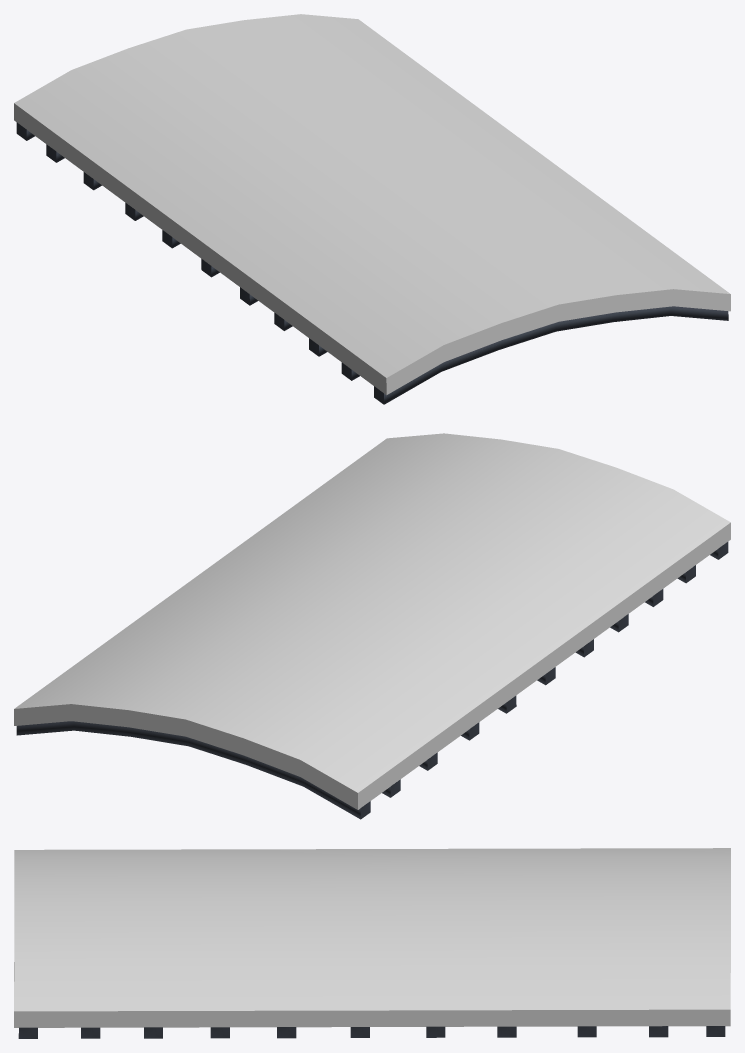
Rendered from POSGRADO-TECHO_OP.glb.
3 views of the same model, one above another, from view 1: azimuth 30°, elevation 25°; view 2: azimuth 150°, elevation 25°; view 3: azimuth 270°, elevation 25° (orthographic). The views are drawn at different scales.
Visible parts, largest first — view 1: polySurface15.001, polySurface14.001; view 2: polySurface15.001, polySurface14.001; view 3: polySurface15.001, polySurface14.001.
Part boxes in pixels (x1,y1,x2,y2): polySurface15.001: (14, 14, 730, 395); polySurface14.001: (16, 122, 728, 404); polySurface15.001: (14, 433, 730, 809); polySurface14.001: (16, 541, 728, 819); polySurface15.001: (14, 848, 730, 1027); polySurface14.001: (18, 1026, 725, 1038).
Size of what is drawn, in the model's own units: 0.0688 by 0.0119 by 0.129.
2 materials, 1 textured.
